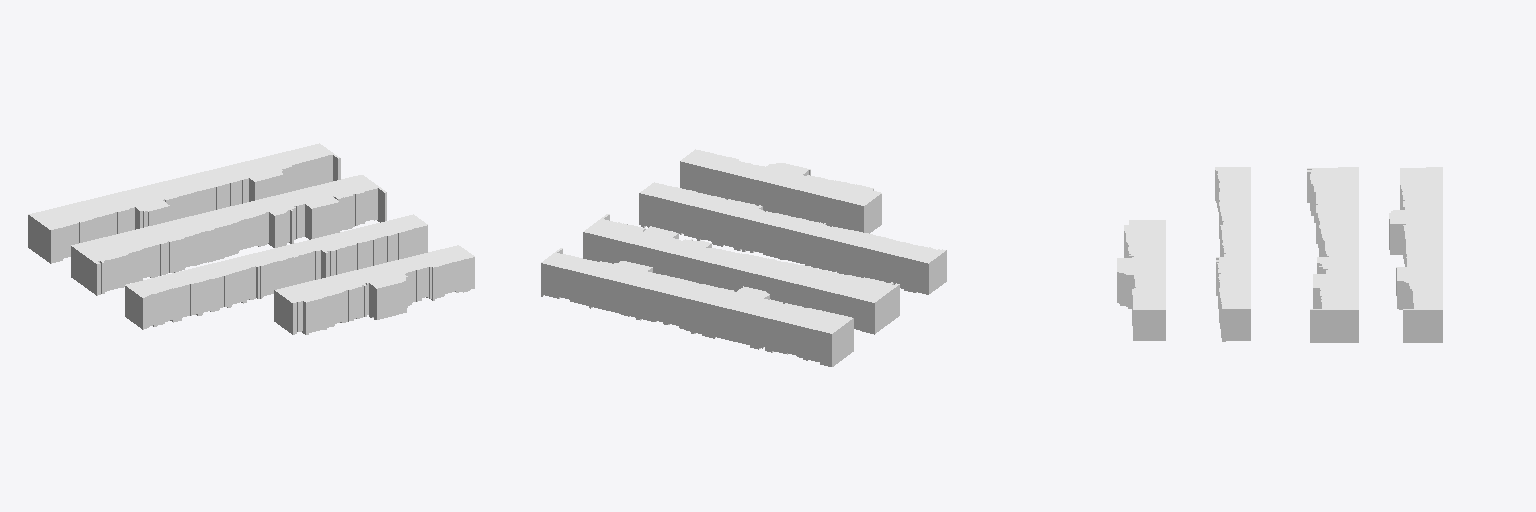
The model's file is books.obj.
3 views of the same model, side by side, from view 1: azimuth 30°, elevation 25°; view 2: azimuth 150°, elevation 25°; view 3: azimuth 270°, elevation 25° (orthographic).
Parts seen in each view (by area): view 1: mesh_2, mesh_1, mesh_3, mesh_0; view 2: mesh_3, mesh_1, mesh_2, mesh_0; view 3: mesh_2, mesh_3, mesh_1, mesh_0.
Boxes of the visible parts, x1,y1,x2,y2 form: mesh_2: [71, 175, 386, 295]; mesh_1: [125, 214, 427, 329]; mesh_3: [28, 143, 340, 263]; mesh_0: [274, 245, 474, 334]; mesh_3: [541, 248, 853, 366]; mesh_1: [639, 182, 946, 294]; mesh_2: [583, 214, 899, 334]; mesh_0: [680, 149, 881, 233]; mesh_2: [1307, 167, 1358, 342]; mesh_3: [1389, 167, 1442, 342]; mesh_1: [1215, 167, 1250, 341]; mesh_0: [1117, 220, 1165, 340].
Bounding box in the file's own units: 0.9536 × 0.1083 × 0.9246.